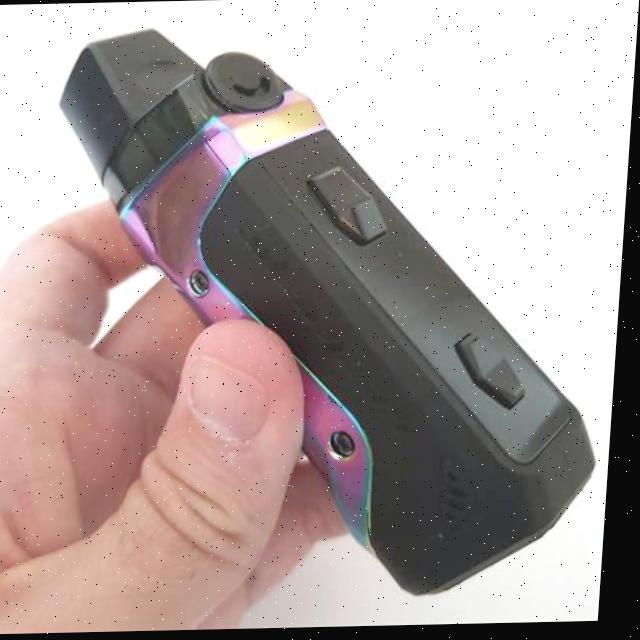vape: (29, 20, 629, 608)
